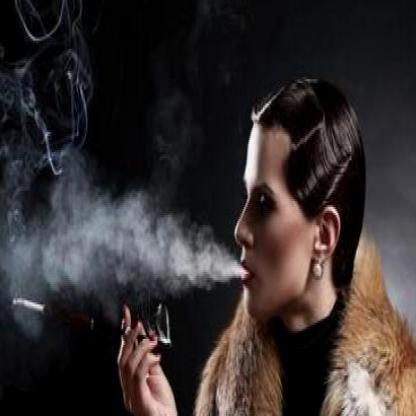cigarette: (12, 294, 46, 313)
person: (223, 71, 414, 415)
smoke: (3, 160, 218, 306)
